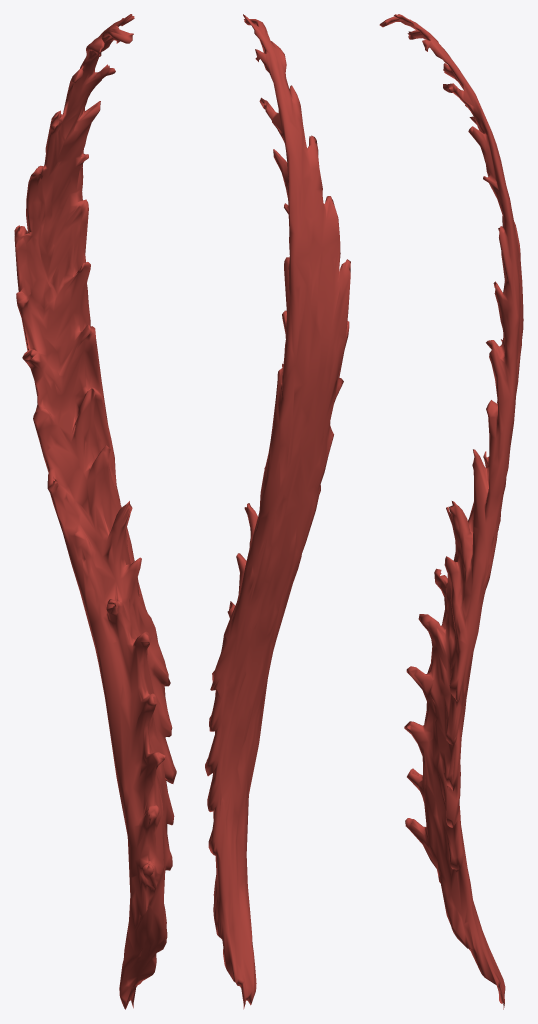
File: musculos-longissimus-thoracis-muscle-r.glb
3 views of the same model, side by side, from view 1: azimuth 30°, elevation 25°; view 2: azimuth 210°, elevation 25°; view 3: azimuth 270°, elevation 25° (orthographic). The views are drawn at different scales.
Visible parts, largest first — view 1: Longissimus thoracis muscle.r; view 2: Longissimus thoracis muscle.r; view 3: Longissimus thoracis muscle.r.
Part boxes in pixels (x1,y1,x2,y2): Longissimus thoracis muscle.r: [14, 14, 176, 1009]; Longissimus thoracis muscle.r: [205, 14, 350, 1009]; Longissimus thoracis muscle.r: [379, 14, 523, 1009].
Size of the model in its own units: 0.0721 by 0.5477 by 0.0737.
